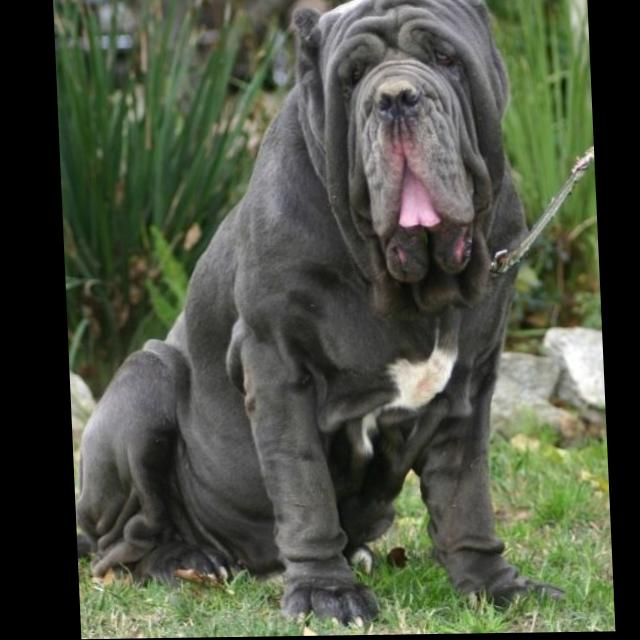mastino_napoletano: (54, 1, 564, 634)
